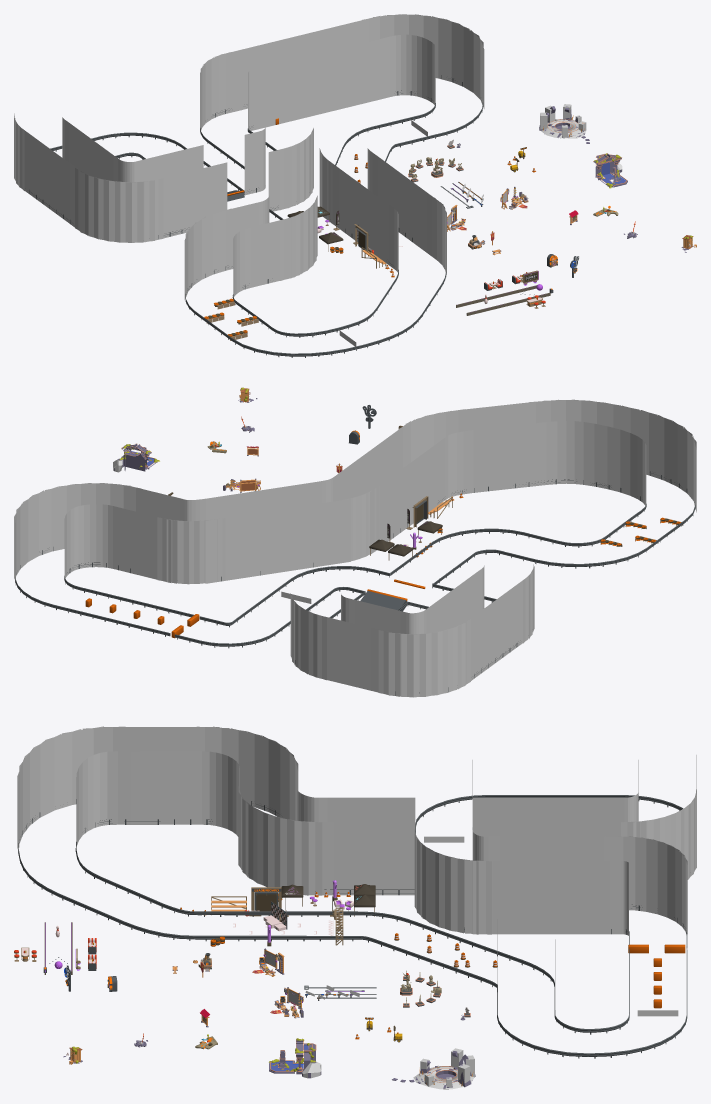
The model's file is areas-compressed.glb.
The picture shows the model from 3 angles, top to bottom: view 1: azimuth 30°, elevation 25°; view 2: azimuth 150°, elevation 25°; view 3: azimuth 270°, elevation 25°; orthographic projection. The views are drawn at different scales.
Parts seen in each view (by area): view 1: trimesh, refRailsPhysicalFixed, Cube089, Plane119_1, blocks; view 2: trimesh, refRailsPhysicalFixed, Cube089, jump, Cube088; view 3: trimesh, refRailsPhysicalFixed, Cube088, Cube089, Cube173.
Boxes of the visible parts, x1,y1,x2,y2 form: trimesh: [14, 14, 484, 299]; refRailsPhysicalFixed: [29, 75, 483, 357]; Cube089: [593, 153, 627, 188]; Plane119_1: [456, 285, 550, 315]; blocks: [204, 298, 258, 340]; trimesh: [14, 399, 696, 697]; refRailsPhysicalFixed: [15, 471, 695, 695]; Cube089: [114, 443, 159, 471]; jump: [360, 579, 425, 611]; Cube088: [370, 496, 452, 560]; trimesh: [17, 726, 696, 1021]; refRailsPhysicalFixed: [18, 795, 687, 1058]; Cube088: [210, 887, 374, 946]; Cube089: [269, 1038, 321, 1078]; Cube173: [392, 1051, 475, 1088].
Bounding box in the file's own units: 169 × 22.1 × 169.
23 materials, 13 textured.
